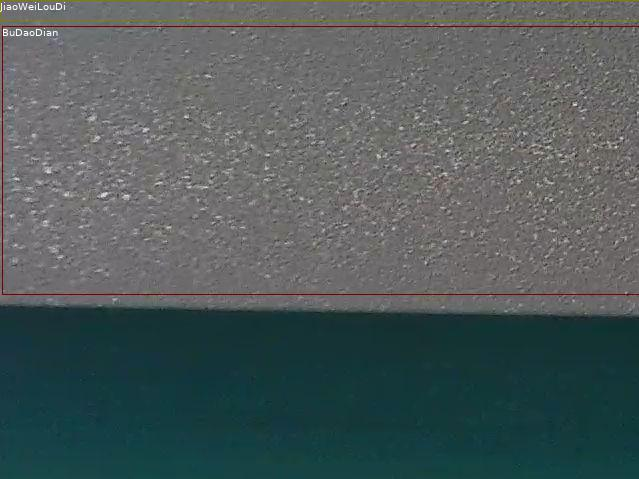BuDaoDian: (2, 26, 639, 294)
JiaoWeiLouDi: (0, 0, 639, 20)
